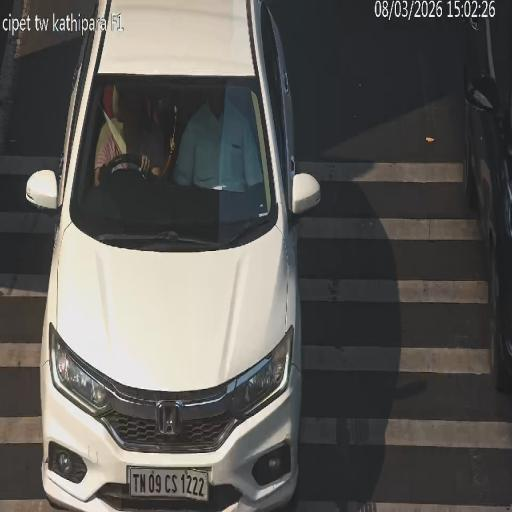person_with_seatbelt: (101, 104, 133, 176)
person_without_seatbelt: (188, 114, 252, 189)
